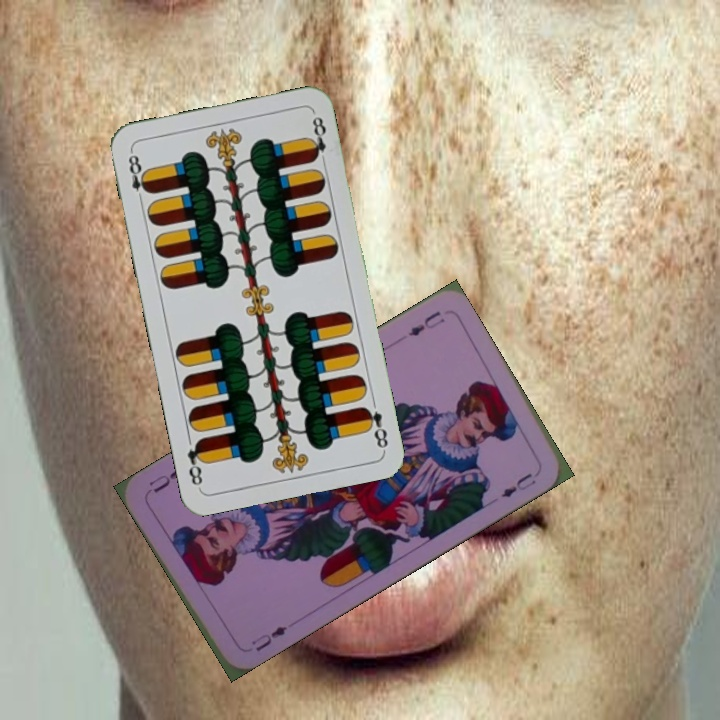E8: (124, 147, 153, 206), (359, 403, 391, 451)
EU: (247, 621, 290, 655), (403, 307, 448, 339)
